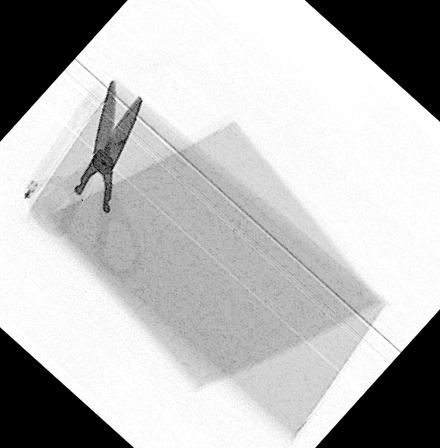Scissors: (20, 76, 143, 279)
